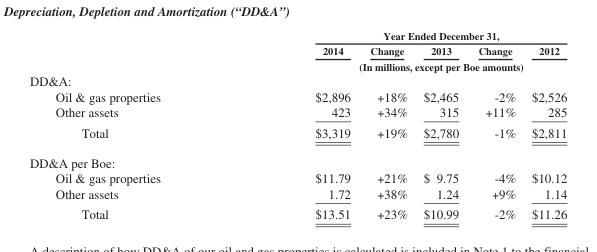table: (28, 28, 566, 221)
table column: (28, 28, 237, 221), (237, 28, 359, 221), (467, 28, 523, 221), (359, 28, 414, 221), (414, 28, 467, 221), (523, 28, 566, 221)
table column header: (28, 28, 566, 72)
table projected row header: (28, 147, 566, 170), (28, 72, 566, 88)
table row: (28, 121, 566, 147), (28, 147, 566, 170), (28, 103, 566, 121), (28, 185, 566, 203), (28, 203, 566, 221), (28, 42, 566, 58), (28, 72, 566, 88), (28, 88, 566, 103), (28, 170, 566, 185), (28, 28, 566, 42), (28, 58, 566, 72)
table spanning cell: (237, 28, 566, 42), (237, 58, 566, 72)
